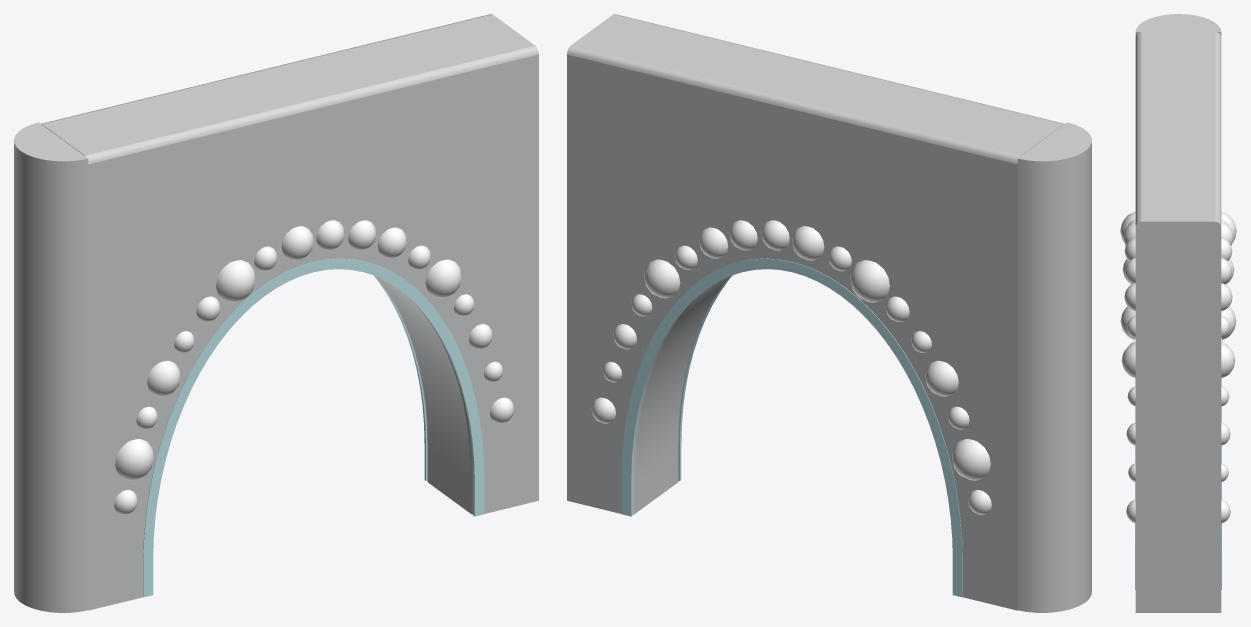
File: Arch_D08_BubbleCascade.fbx
3 views of the same model, side by side, from view 1: azimuth 30°, elevation 25°; view 2: azimuth 150°, elevation 25°; view 3: azimuth 270°, elevation 25° (orthographic). The views are drawn at different scales.
Visible parts, largest first — view 1: Arch_D08_BubbleCascade; view 2: Arch_D08_BubbleCascade; view 3: Arch_D08_BubbleCascade.
Boxes of the visible parts, left/top/right/bottom form: Arch_D08_BubbleCascade: left=14, top=14, right=538, bottom=612; Arch_D08_BubbleCascade: left=567, top=14, right=1091, bottom=612; Arch_D08_BubbleCascade: left=1120, top=14, right=1236, bottom=612.
Size of the model in its own units: 2.29 by 2.01 by 0.5424.
